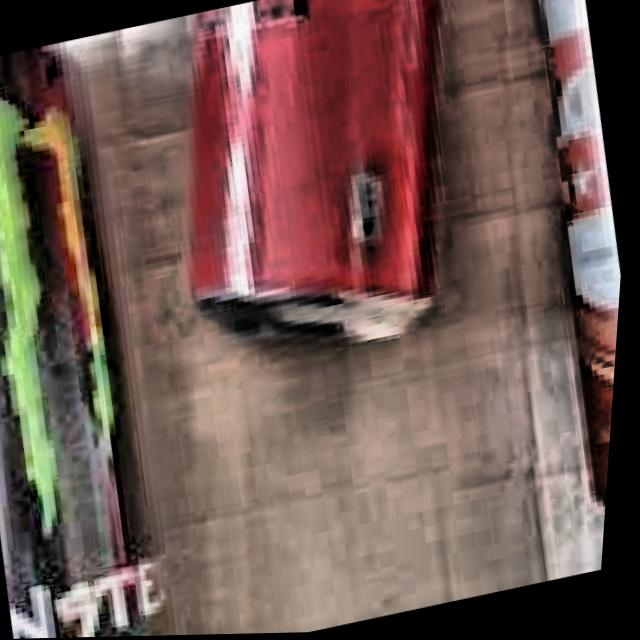metal: (0, 42, 185, 639), (190, 0, 447, 352)
